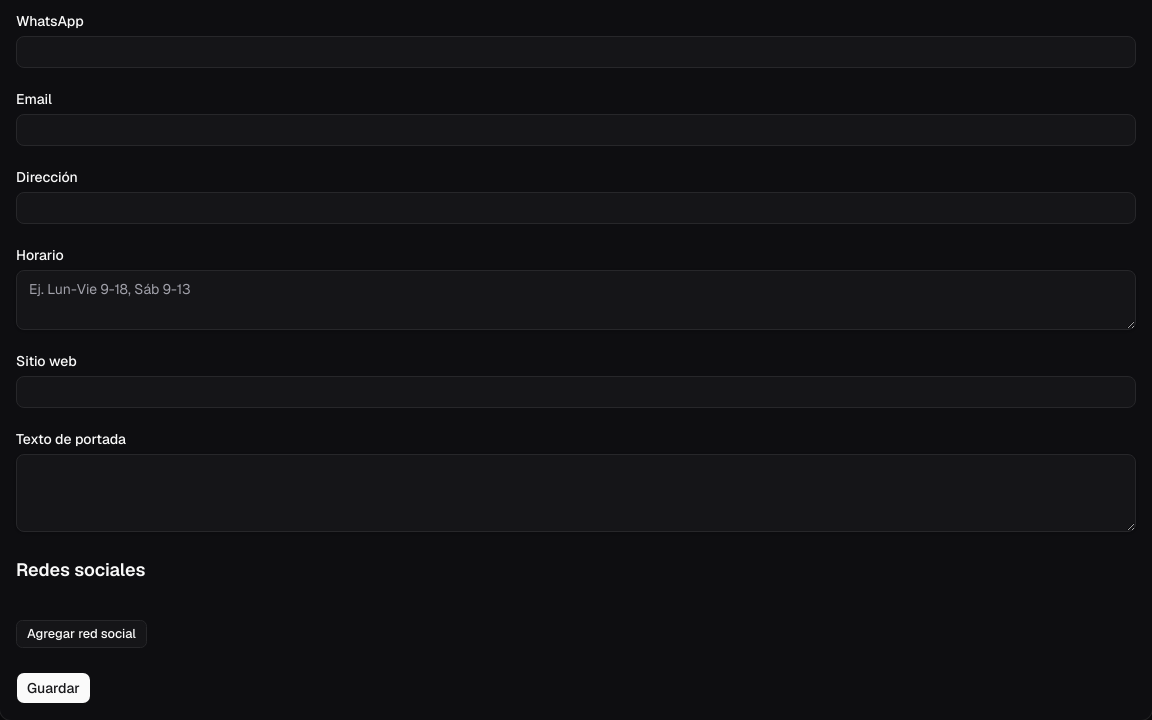
Test case: WorkshopConfigForm — contact fields › surfaces server-returned field validation errors next to their inputs
(page scrolled)
Type "algo" into the text box labelled "Texto de portada". click: coordinates (576, 493)
box: x1=16 y1=454 x2=1136 y2=532
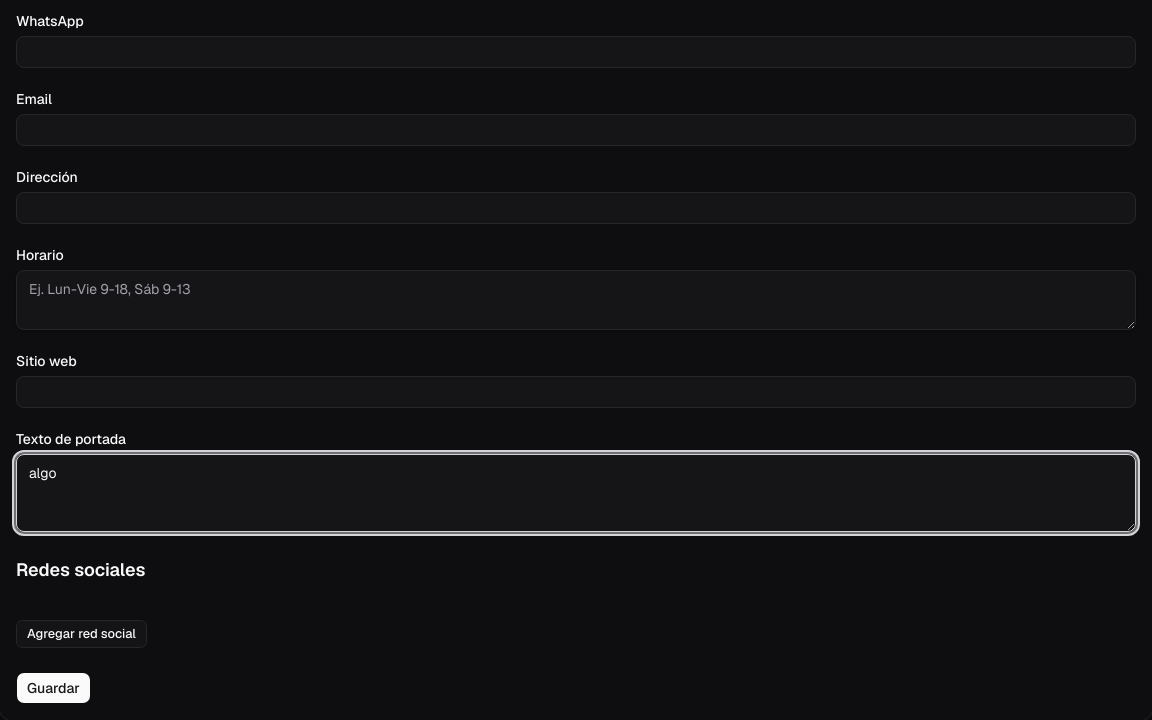
Click the button "Guardar". click: coordinates (53, 688)
box: x1=16 y1=672 x2=91 y2=704
(page scrolled)
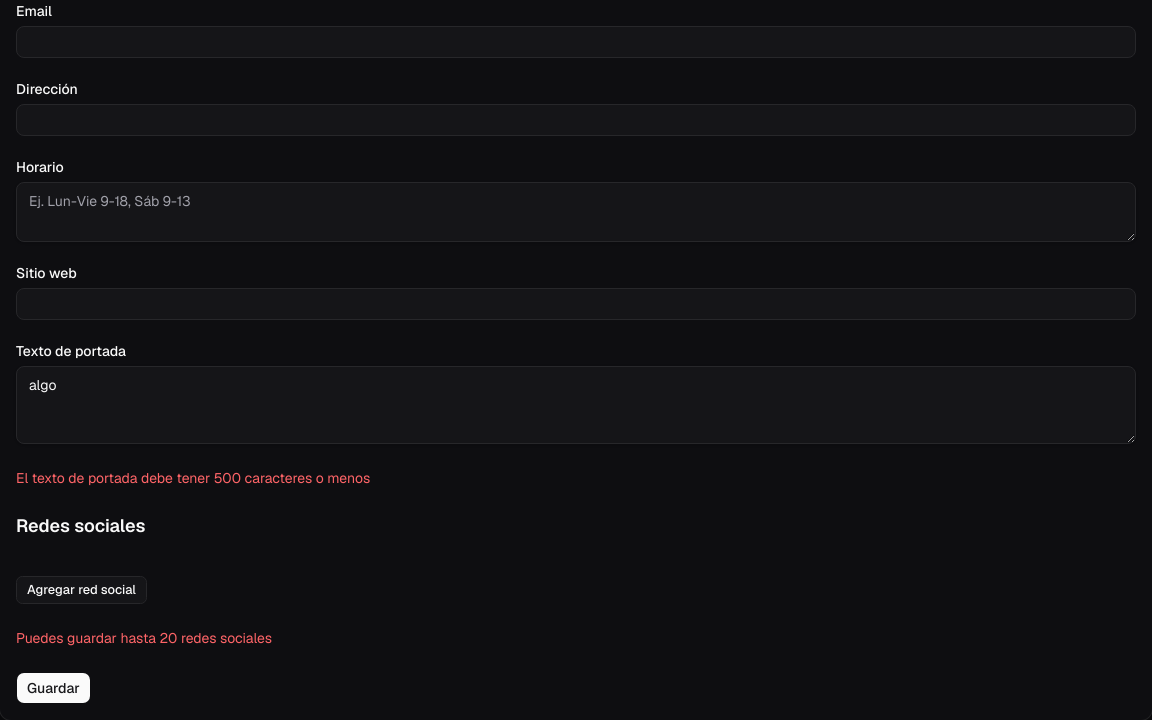
Expected: the text "El texto de portada debe tener 500 caracteres o menos" is shown, x1=16 y1=469 x2=370 y2=487
Expected: the text "Puedes guardar hasta 20 redes sociales" is shown, x1=16 y1=629 x2=272 y2=647
